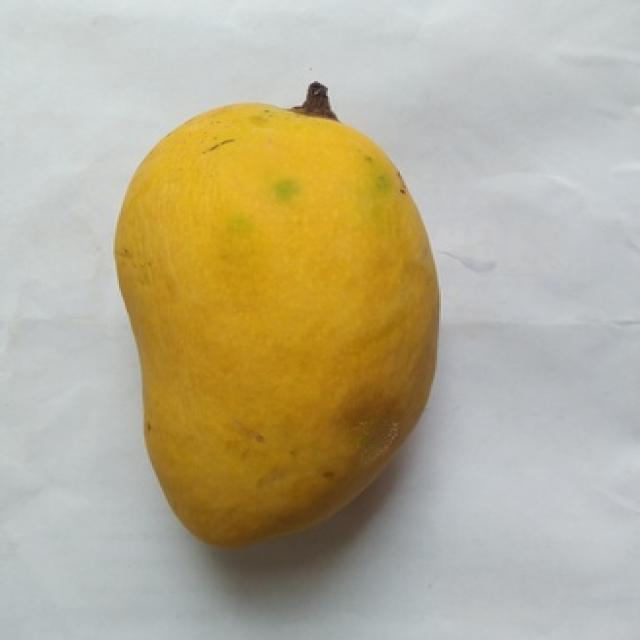Mango: (115, 104, 435, 546)
